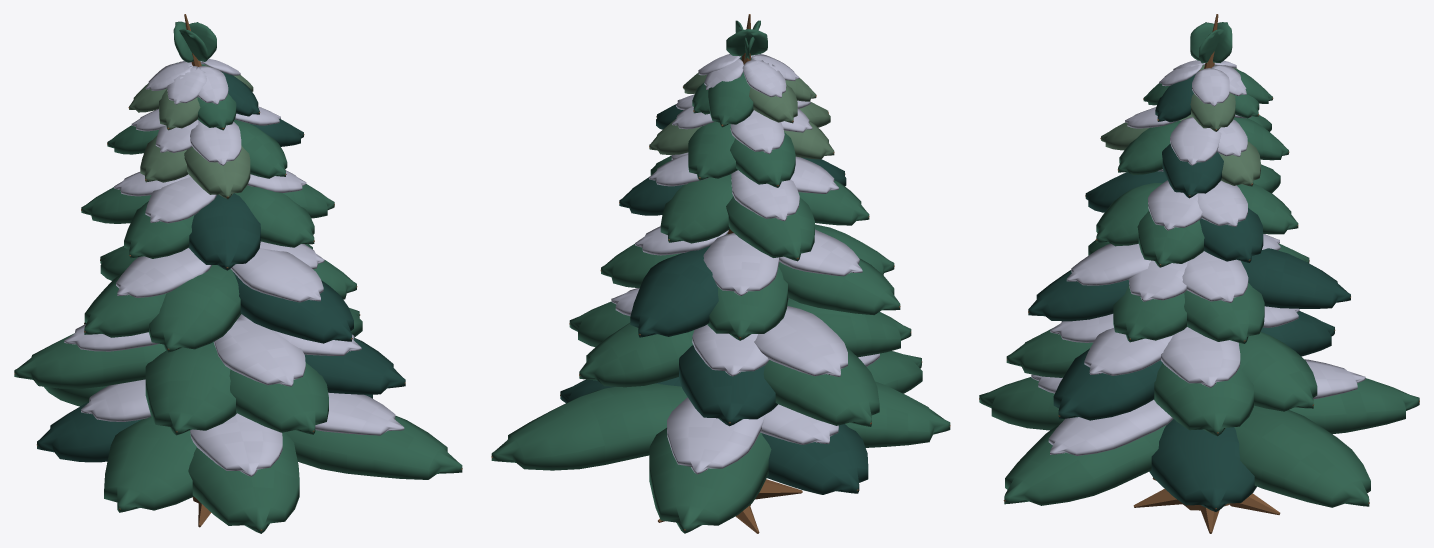
File: pine_broad_snow.glb
The picture shows the model from 3 angles, left to right: view 1: azimuth 30°, elevation 25°; view 2: azimuth 150°, elevation 25°; view 3: azimuth 270°, elevation 25°; orthographic projection. The views are drawn at different scales.
Parts seen in each view (by area): view 1: pine_broad_snow; view 2: pine_broad_snow; view 3: pine_broad_snow.
Boxes of the visible parts, x1,y1,x2,y2 form: pine_broad_snow: (14,14,462,533); pine_broad_snow: (491,14,950,533); pine_broad_snow: (979,14,1419,533).
Size of the model in its own units: 3 by 4.23 by 3.55.
